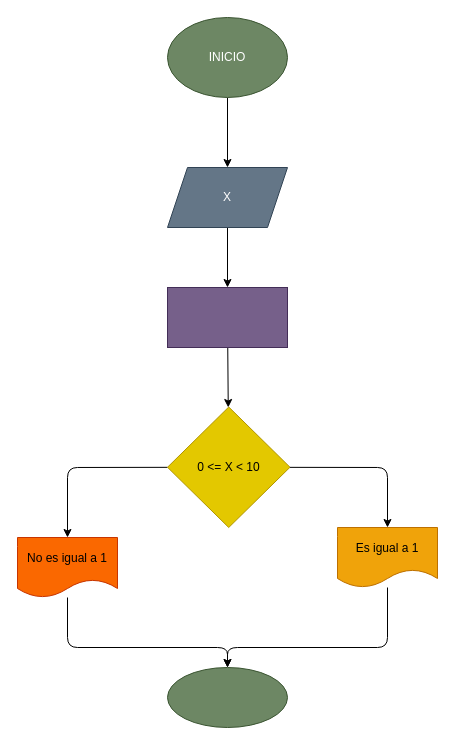
Image size: 455x745. Some labels were removed from this diagram. The shapes that lost their labels are listed below. From the top down, each one's centre as x and y in pixels, then its label:
the point at 227,317: Z1 = X % 10 Z2 = (X % 100) // 10 Z3 = Z1 + Z2
the point at 227,697: FIN
